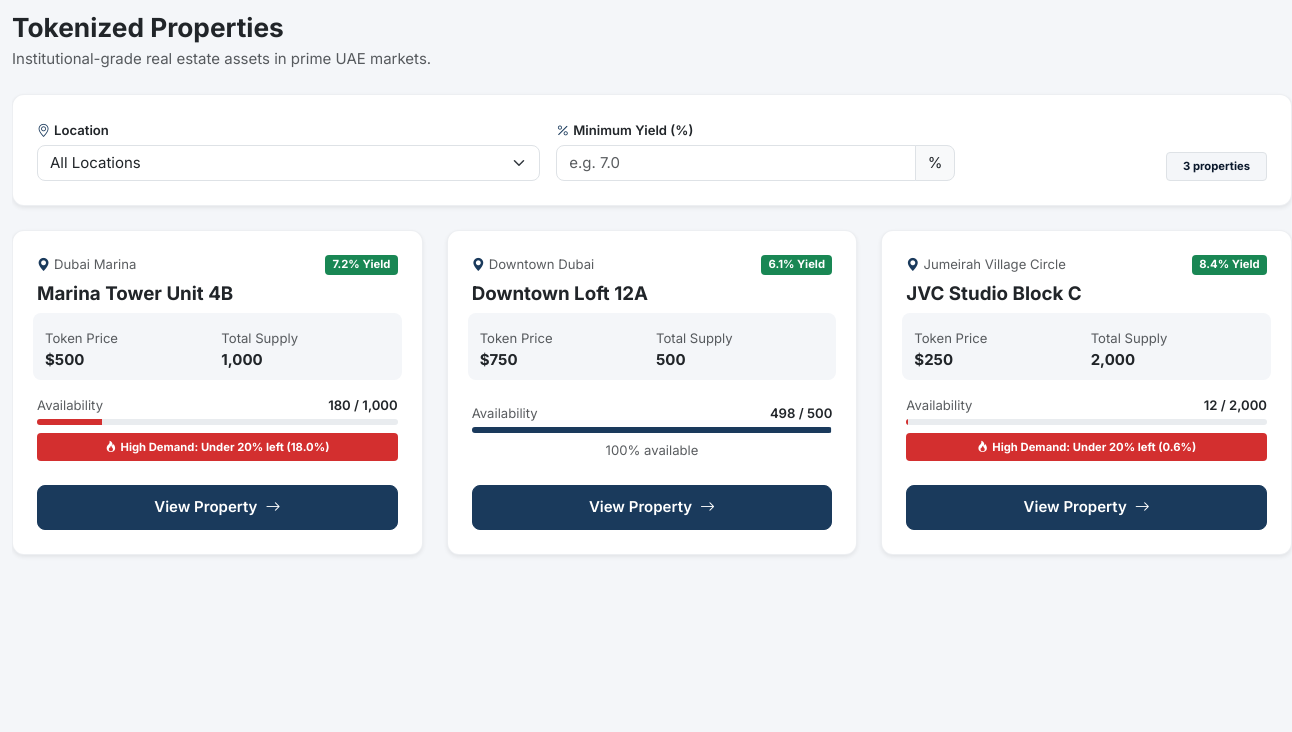
Test: PropertyListingPage Component › filters properties by minimum yield percentage
This screenshot has width=1292, height=732.
Step 1. Type "8.0" into the number field named "filter by minimum yield percentage" → (736, 163), box [556,145,916,181]
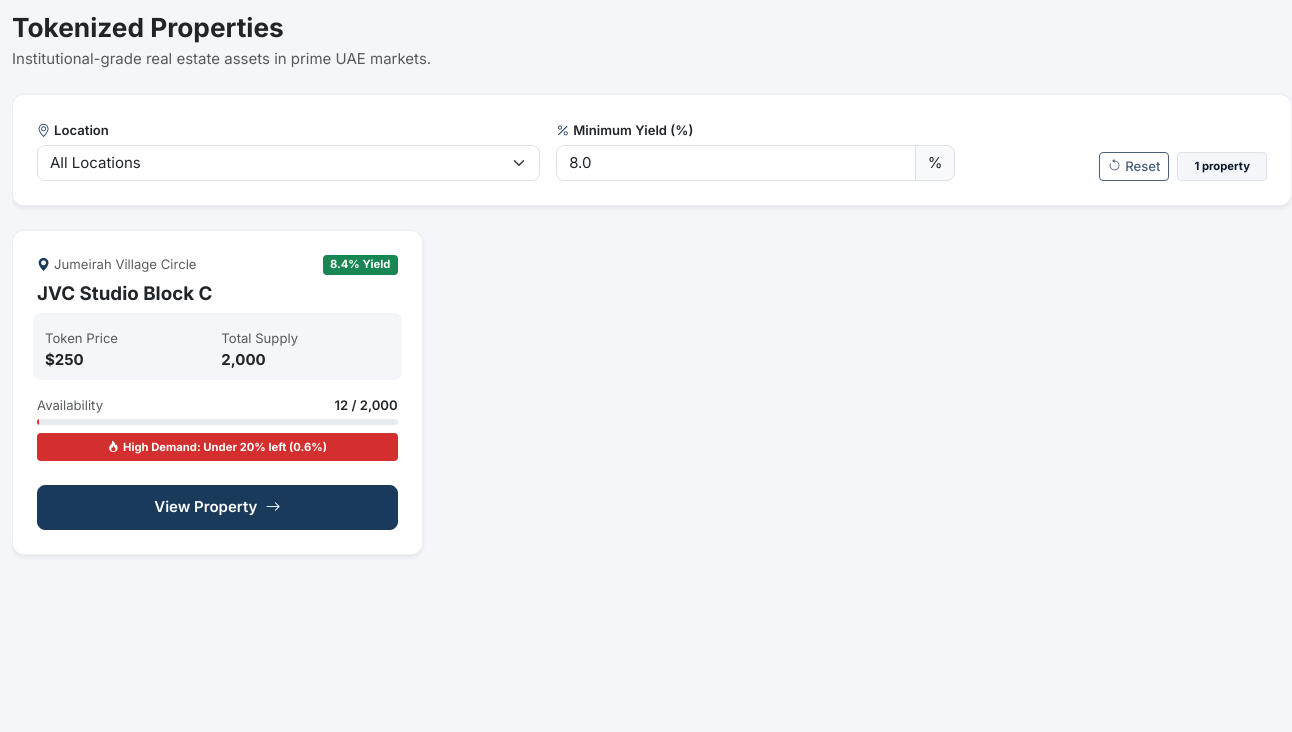
Expected: the heading "JVC Studio Block C" is shown, [37,282,212,305]
Expected: the heading "Marina Tower Unit 4B" is gone
Expected: the heading "Downtown Loft 12A" is gone
